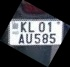character: (38, 20, 45, 32), (20, 21, 27, 32), (49, 33, 56, 44), (28, 20, 34, 32), (25, 33, 32, 43), (34, 33, 41, 43), (41, 33, 48, 43), (18, 33, 24, 43), (47, 21, 52, 32)
